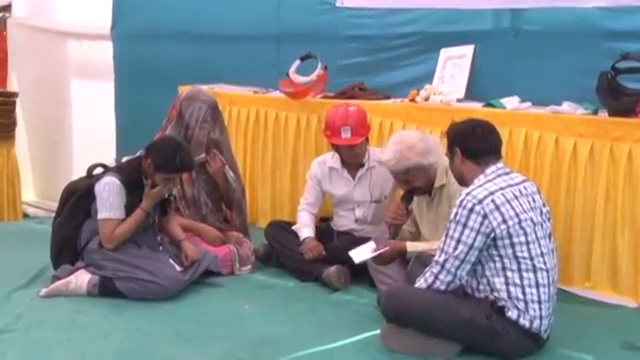helmet: (319, 109, 369, 151)
helmet_off: (380, 131, 444, 207), (444, 118, 509, 192), (168, 88, 226, 166), (129, 134, 192, 194)
helmet_on: (321, 111, 373, 177)
person: (375, 127, 553, 345), (33, 132, 228, 296), (264, 97, 400, 289), (153, 87, 250, 274), (373, 126, 463, 291)
